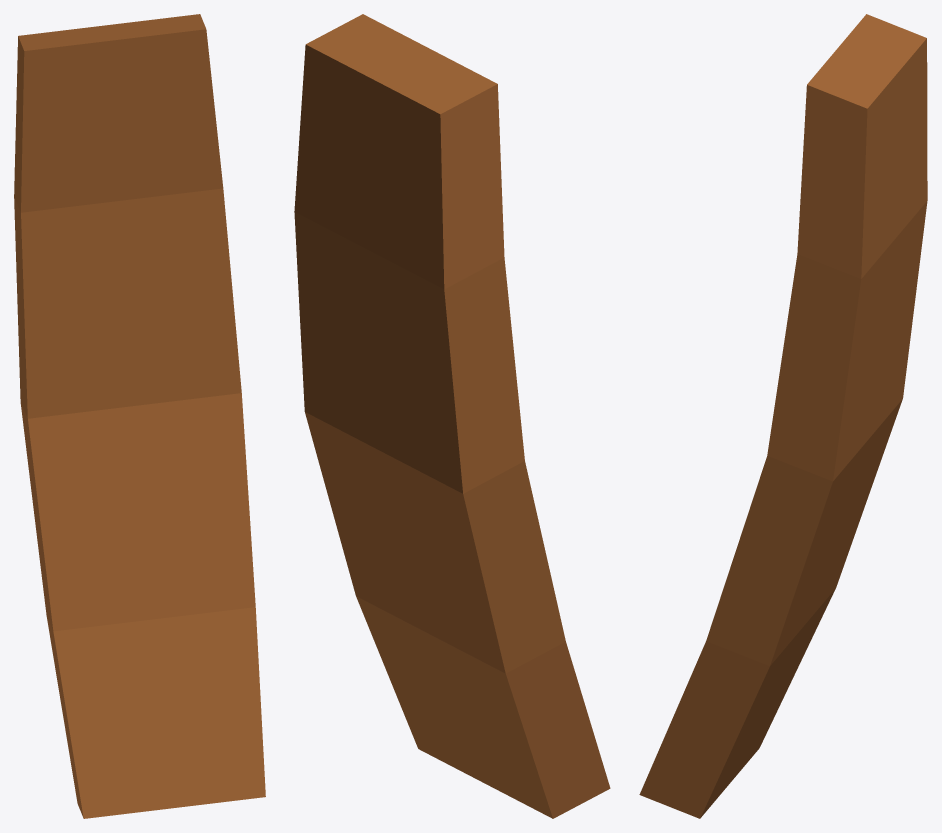
File: barrel-021.glb
3 views of the same model, side by side, from view 1: azimuth 30°, elevation 25°; view 2: azimuth 150°, elevation 25°; view 3: azimuth 270°, elevation 25° (orthographic). The views are drawn at different scales.
Visible parts, largest first — view 1: barrel.021; view 2: barrel.021; view 3: barrel.021.
Boxes of the visible parts, x1,y1,x2,y2 form: barrel.021: (14,14,265,818); barrel.021: (294,14,610,818); barrel.021: (639,14,927,818).
Size of the model in its own units: 1.48 by 4.71 by 1.66.
